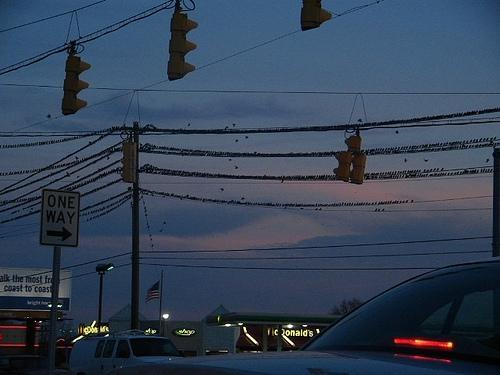car: (130, 260, 498, 374)
truck: (70, 330, 184, 374)
